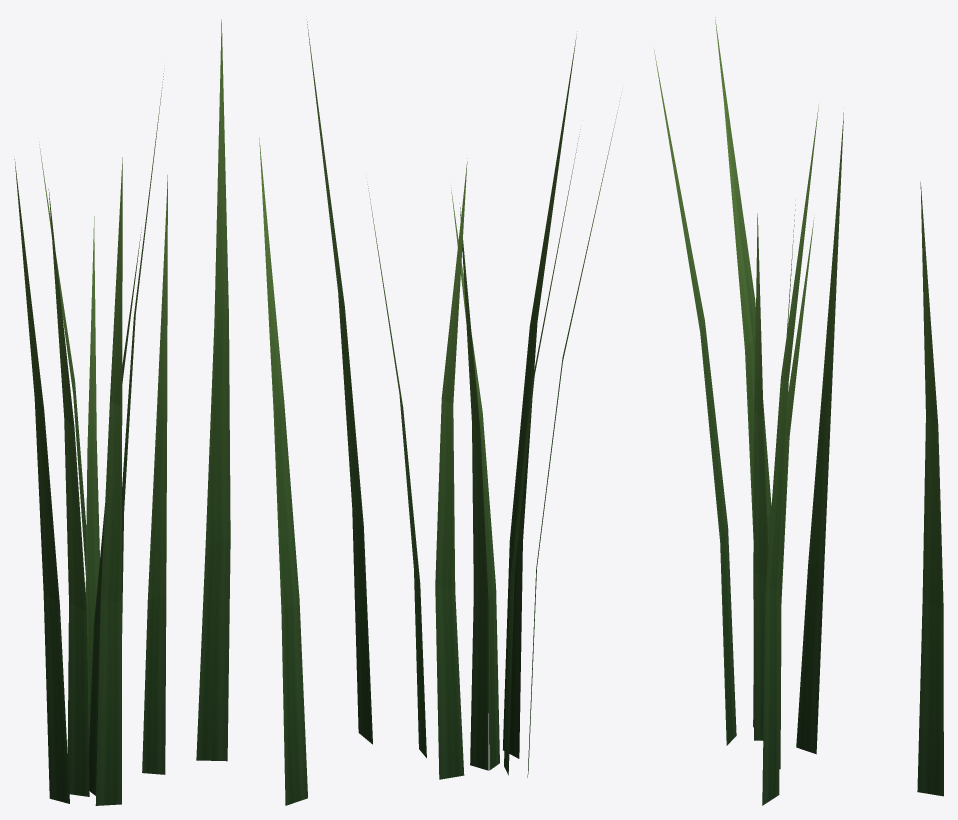
Rendered from forest_grass_002_c_LOD2.gltf.
3 renders of one model, left to right at view 1: azimuth 30°, elevation 25°; view 2: azimuth 150°, elevation 25°; view 3: azimuth 270°, elevation 25°, orthographic. The views are drawn at different scales.
Visible parts, largest first — view 1: forest_grass_002_c_LOD2; view 2: forest_grass_002_c_LOD2; view 3: forest_grass_002_c_LOD2.
Boxes of the visible parts, <box> form: forest_grass_002_c_LOD2: <box>14,19,230,805</box>; forest_grass_002_c_LOD2: <box>259,19,620,805</box>; forest_grass_002_c_LOD2: <box>654,17,943,805</box>.
Size of the model in its own units: 0.2452 by 0.6494 by 0.2391.
1 material, 1 textured.
